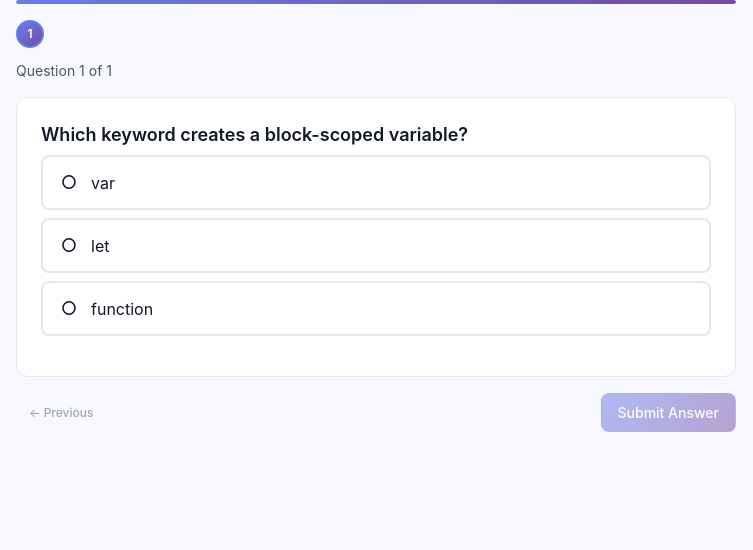
QuizPanel › shows the score screen after completing all questions
Click the button "○ let": (69,246) top-left (41, 218), bottom-right (711, 273)
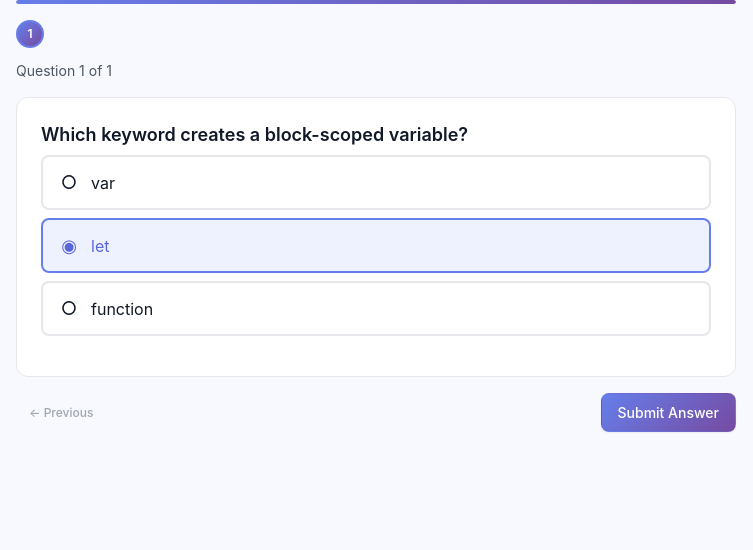
Click the button "Submit Answer": (668,413) top-left (600, 393), bottom-right (736, 432)
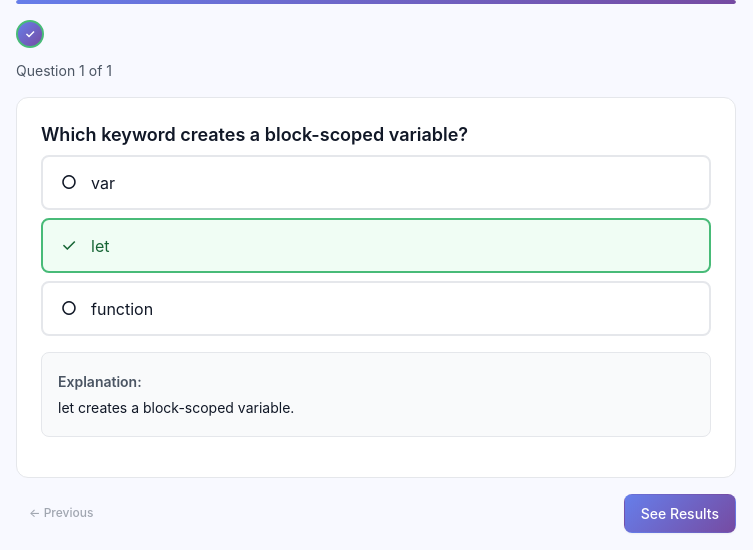
Click the button "See Results": (680,513) top-left (624, 494), bottom-right (736, 533)
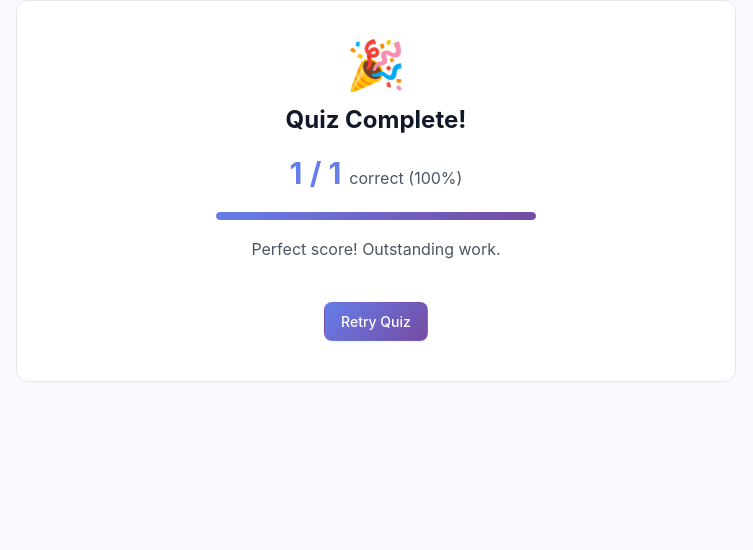
Check: the heading "Quiz Complete!" is shown, box top-left (286, 105), bottom-right (466, 135)
Check: the text "1 / 1" is shown, box top-left (290, 151), bottom-right (341, 196)
